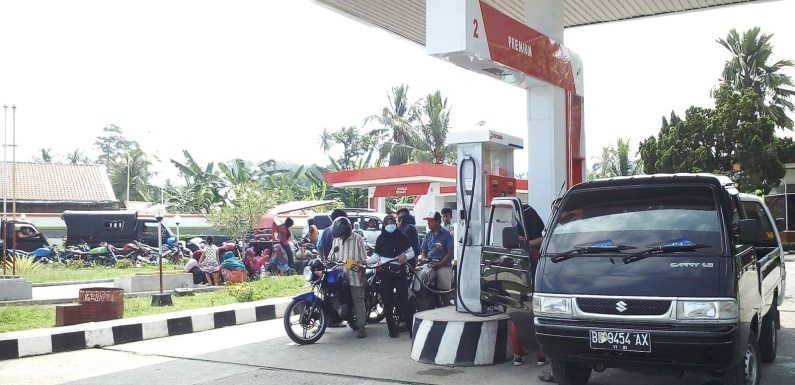plate: (591, 330, 650, 351)
